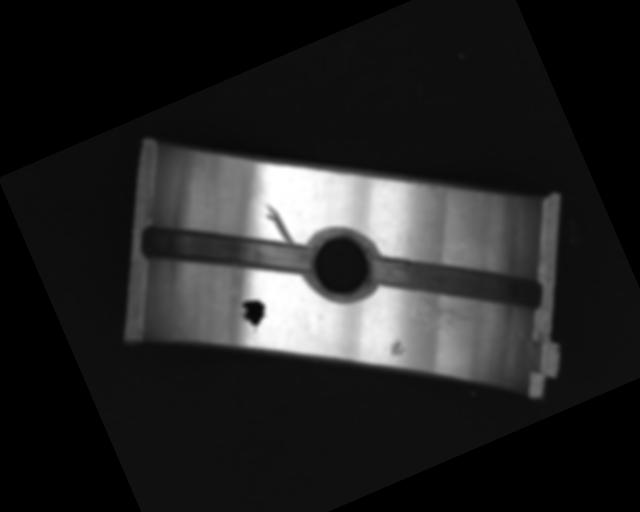blot: (235, 294, 274, 336)
bruise: (381, 337, 407, 362)
gap: (366, 202, 549, 363), (137, 175, 312, 325)
hole: (292, 217, 388, 312)
nick: (261, 199, 294, 249)
scratch: (405, 269, 492, 351)
